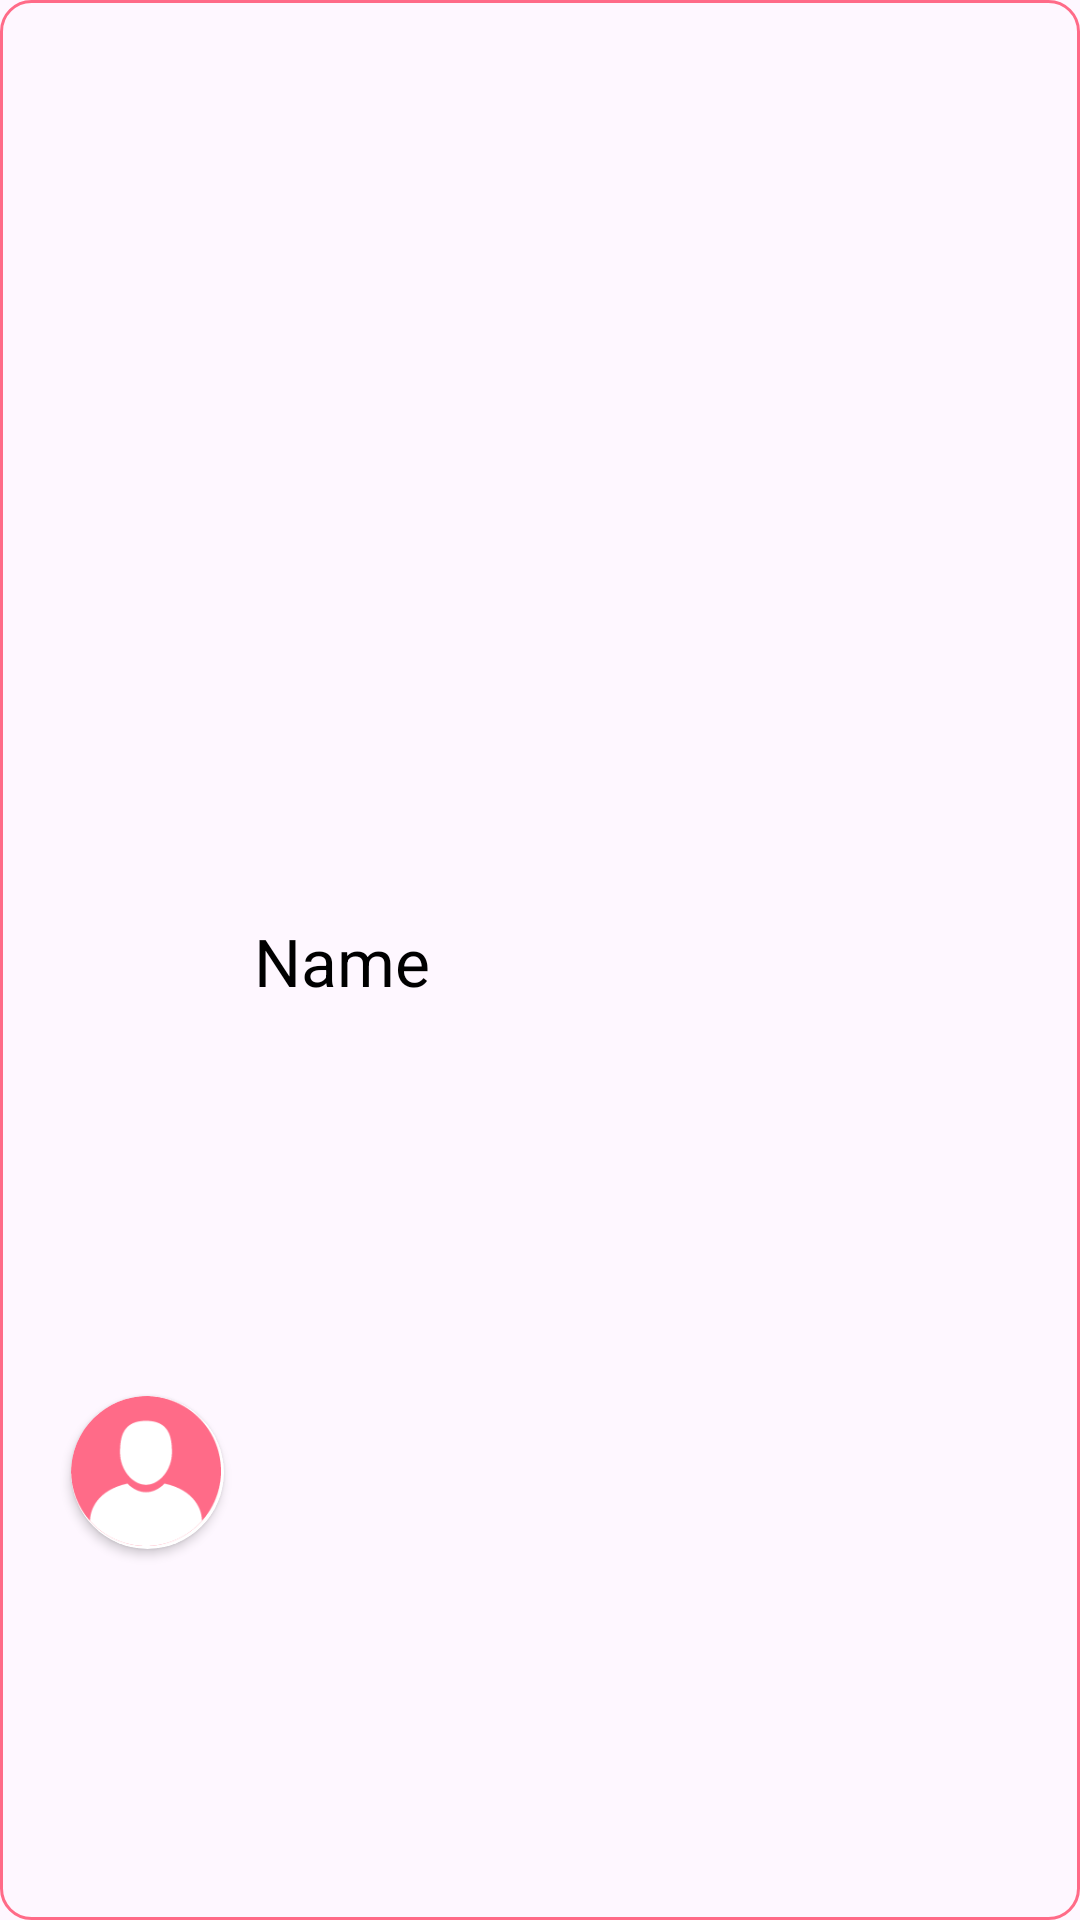

Named icons in this screenshot (1080*1920) and their bounding boxes, (x1, y1, x2, y2):
user: (71, 1396, 221, 1546)
